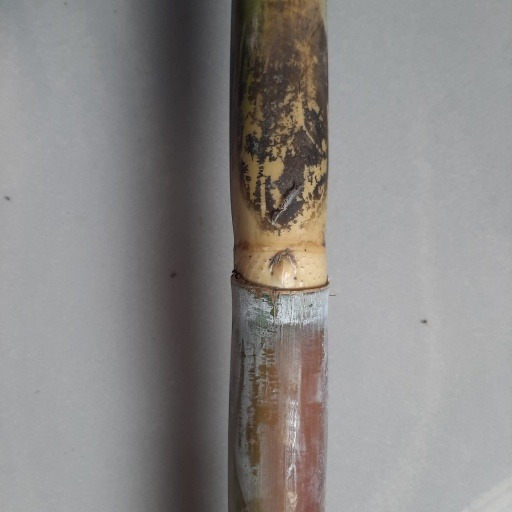Bud: (267, 252, 304, 287)
